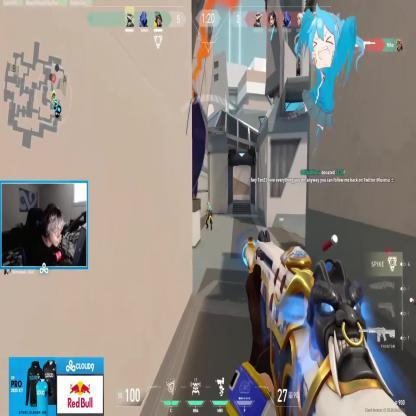enemy: (205, 202, 213, 230)
enemy_head: (208, 202, 210, 208)
